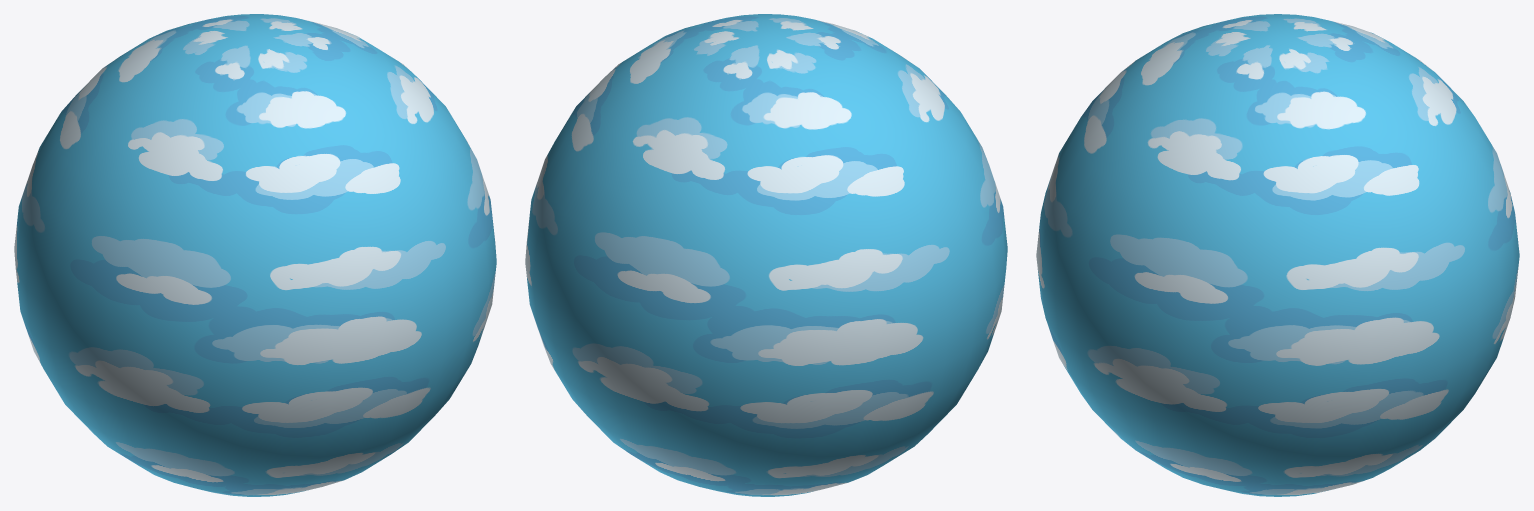
The model's file is SCIVOLO.fbx.
3 renders of one model, left to right at view 1: azimuth 30°, elevation 25°; view 2: azimuth 150°, elevation 25°; view 3: azimuth 270°, elevation 25°, orthographic.
Parts seen in each view (by area): view 1: Sphere; view 2: Sphere; view 3: Sphere.
Part boxes in pixels (x1=…): Sphere: x1=14, y1=14, x2=496, y2=496; Sphere: x1=525, y1=14, x2=1007, y2=496; Sphere: x1=1036, y1=14, x2=1519, y2=496.
Bounding box in the file's own units: 8161 × 8161 × 8161.
